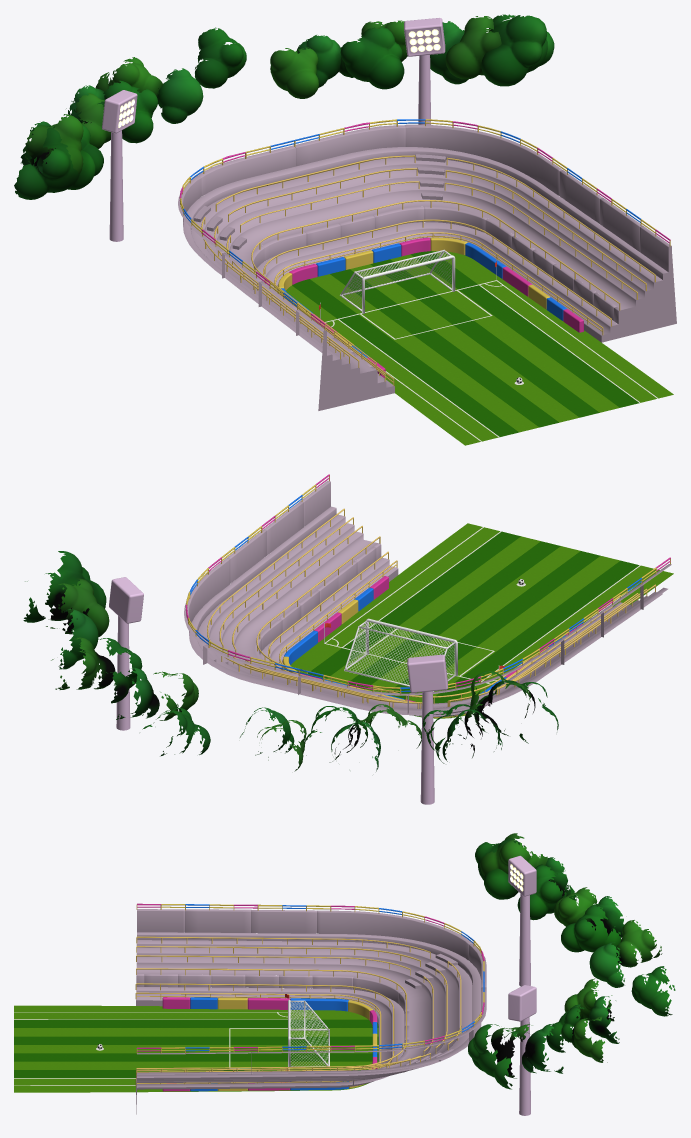
Rendered from Stadium_Recon_web.glb.
3 views of the same model, one above another, from view 1: azimuth 30°, elevation 25°; view 2: azimuth 150°, elevation 25°; view 3: azimuth 270°, elevation 25° (orthographic). The views are drawn at different scales.
Parts seen in each view (by area): view 1: STATIC_Concrete, PITCH_Grass, STATIC_Trees, STATIC_Railings, FLOOD_Light_L, FLOOD_Light_R, STATIC_Markings, GOAL_Net, GOAL_Frame; view 2: PITCH_Grass, STATIC_Concrete, STATIC_Trees, STATIC_Railings, FLOOD_Light_L, GOAL_Net, FLOOD_Light_R, STATIC_Markings, GOAL_Frame; view 3: STATIC_Concrete, PITCH_Grass, STATIC_Trees, STATIC_Railings, FLOOD_Light_L, FLOOD_Light_R, GOAL_Net, STATIC_Markings, ADV_Panel_W04, GOAL_Frame, ADV_Panel_W05.
Part boxes in pixels (x1,y1,x2,y2): STATIC_Concrete: (178,124,676,410); PITCH_Grass: (286,251,673,445); STATIC_Trees: (14,14,554,199); STATIC_Railings: (179,119,670,386); FLOOD_Light_L: (102,90,137,241); FLOOD_Light_R: (404,18,445,124); STATIC_Markings: (325,280,657,441); GOAL_Net: (342,252,451,308); GOAL_Frame: (339,249,455,313); PITCH_Grass: (290,523,673,718); STATIC_Concrete: (184,480,671,716); STATIC_Trees: (23,551,558,771); STATIC_Railings: (185,474,670,708); FLOOD_Light_L: (407,654,447,804); GOAL_Net: (346,622,454,684); FLOOD_Light_R: (109,577,143,730); STATIC_Markings: (324,527,657,684); GOAL_Frame: (344,618,457,691); STATIC_Concrete: (136,909,486,1114); PITCH_Grass: (14,1005,378,1092); STATIC_Trees: (468,833,675,1089); STATIC_Railings: (135,903,484,1086); FLOOD_Light_L: (508,855,536,986); FLOOD_Light_R: (508,985,536,1115); GOAL_Net: (290,1002,328,1066); STATIC_Markings: (14,1012,287,1085); ADV_Panel_W04: (290,998,348,1011); GOAL_Frame: (288,1000,329,1068); ADV_Panel_W05: (247,998,290,1009).
Size of what is drawn, in the model's own units: 35.12 by 8.95 by 43.41.
Materials: 37 (2 with a texture image).
